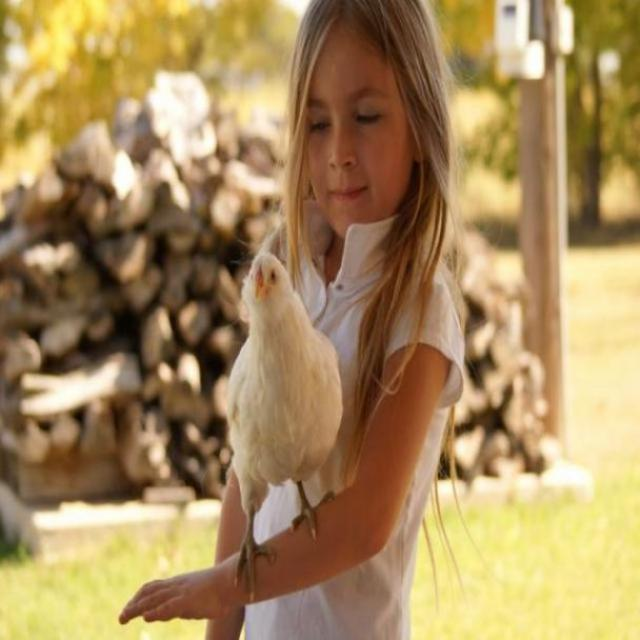Chicken: (197, 251, 346, 572)
